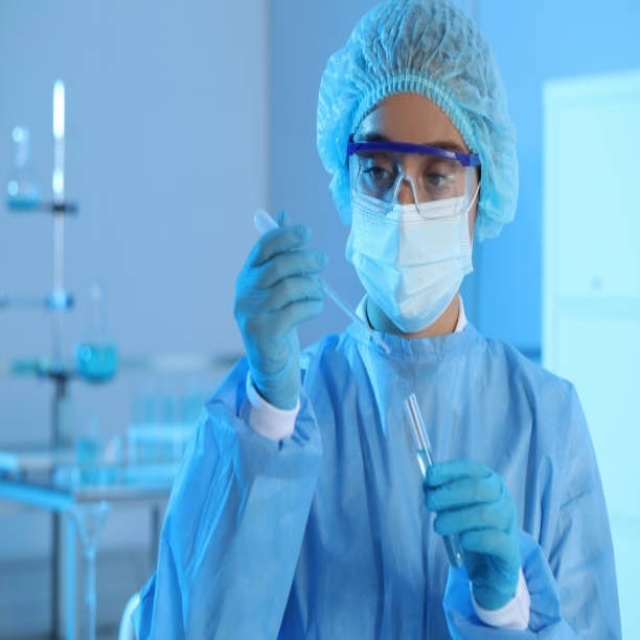Gafas: (348, 143, 481, 218)
Guantes: (233, 211, 326, 410), (424, 457, 520, 612)
Mascara: (348, 182, 480, 329)
